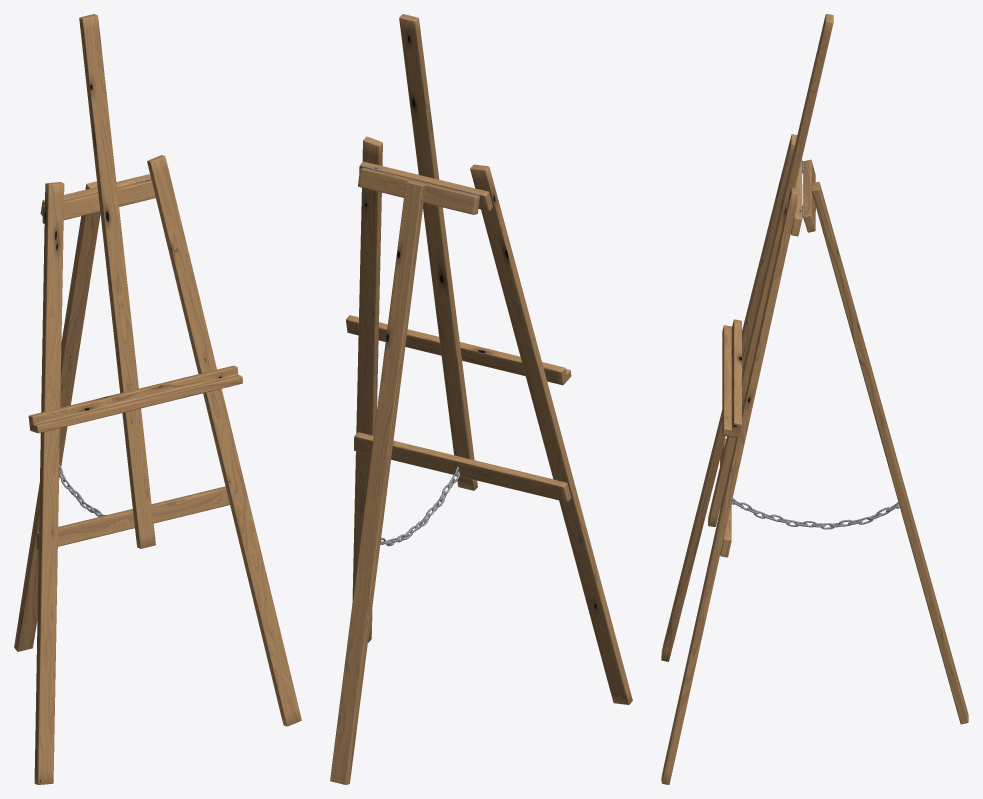
File: Molbert.fbx
3 renders of one model, left to right at view 1: azimuth 30°, elevation 25°; view 2: azimuth 150°, elevation 25°; view 3: azimuth 270°, elevation 25°, orthographic. The views are drawn at different scales.
Visible parts, largest first — view 1: Cube, Cube.001; view 2: Cube, Cube.001, Chain; view 3: Cube, Cube.001, Chain.
Part boxes in pixels (x1,y1,x2,y2): Cube: (28,14,301,784); Cube.001: (14,174,150,651); Cube: (346,14,632,704); Cube.001: (330,167,479,784); Chain: (380,467,459,546); Cube: (661,14,833,784); Cube.001: (803,159,968,724); Chain: (731,498,899,529).
Bounding box in the file's own units: 223 × 548 × 217.
